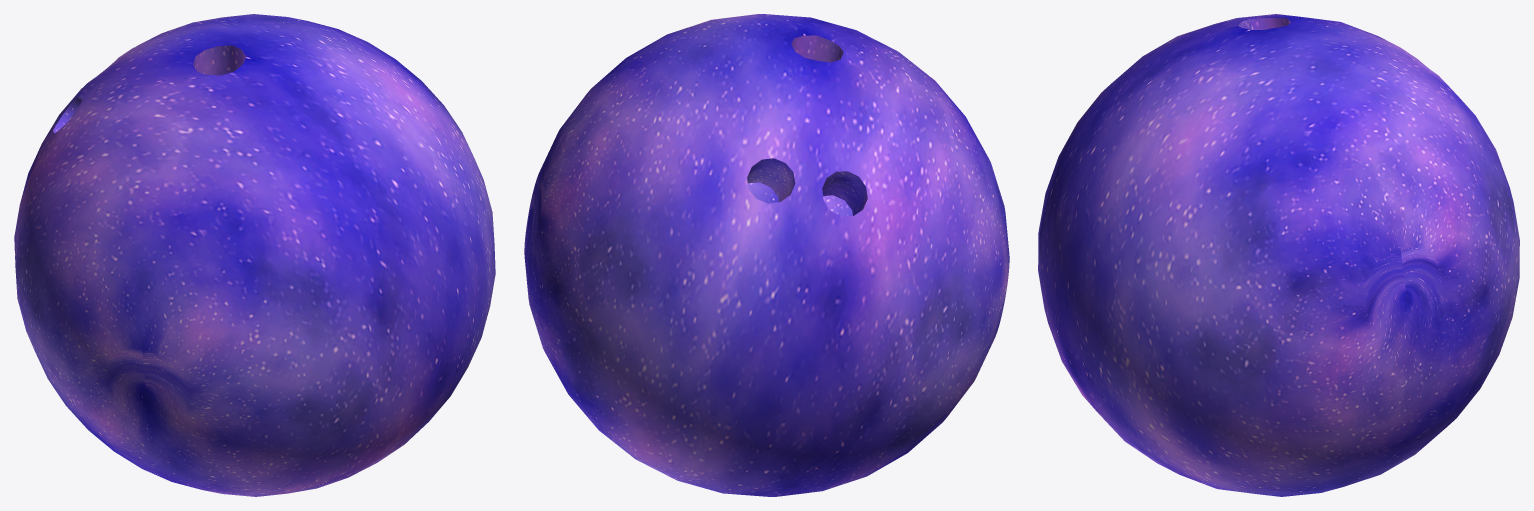
The model's file is BowlingBall_Blue.fbx.
The picture shows the model from 3 angles, left to right: view 1: azimuth 30°, elevation 25°; view 2: azimuth 150°, elevation 25°; view 3: azimuth 270°, elevation 25°; orthographic projection.
Visible parts, largest first — view 1: BowlingBall_Blue; view 2: BowlingBall_Blue; view 3: BowlingBall_Blue.
Boxes of the visible parts, box(x1,y1,x2,y2) form: BowlingBall_Blue: box(14, 14, 495, 496); BowlingBall_Blue: box(524, 14, 1009, 496); BowlingBall_Blue: box(1038, 14, 1519, 496).
Bounding box in the file's own units: 0.2077 × 0.2075 × 0.2071.
